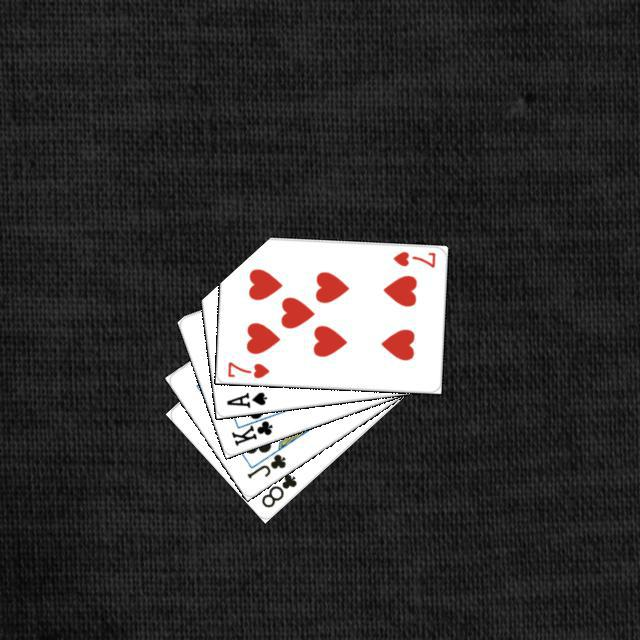7h: (388, 246, 437, 269), (223, 357, 271, 380)
8c: (256, 469, 299, 509)
As: (222, 387, 269, 410)
Jc: (242, 449, 288, 480)
Kc: (226, 409, 275, 448)
